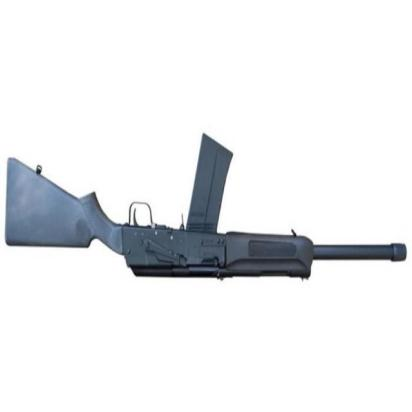Gun: (4, 132, 407, 282)
